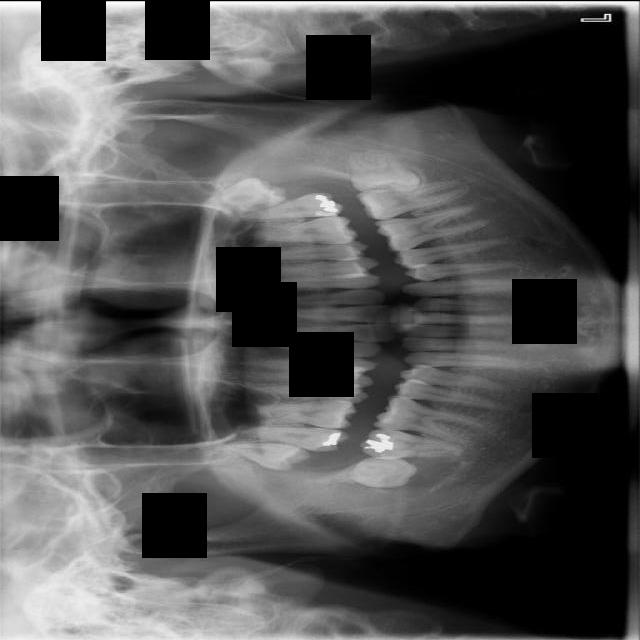3M ESPE Implant: (224, 438, 311, 471)
52: (300, 418, 352, 466), (297, 179, 344, 226), (358, 424, 411, 462)
73: (576, 50, 584, 53)
BioHorizons Implant: (227, 189, 344, 225)
BioLife Implant: (203, 173, 289, 214)
Biomet 3i Implant: (348, 153, 422, 191)
Blue Sky Bio Implant: (356, 175, 469, 222)
Caries: (236, 422, 351, 453)
Implant: (358, 426, 466, 464)
Keystone Dental Implant: (349, 455, 418, 488)
